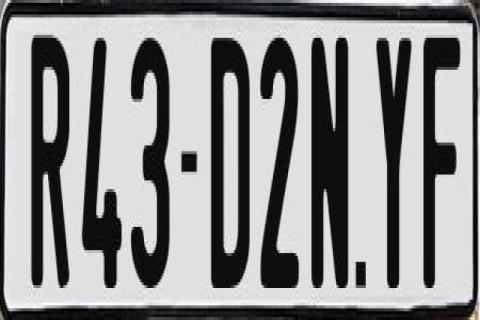0: (128, 38, 172, 302), (81, 38, 125, 300), (260, 35, 300, 285)
D: (210, 32, 250, 294)
F: (420, 38, 462, 302)
N: (311, 32, 353, 288)
R: (32, 32, 70, 294)
Y: (376, 35, 416, 299)
